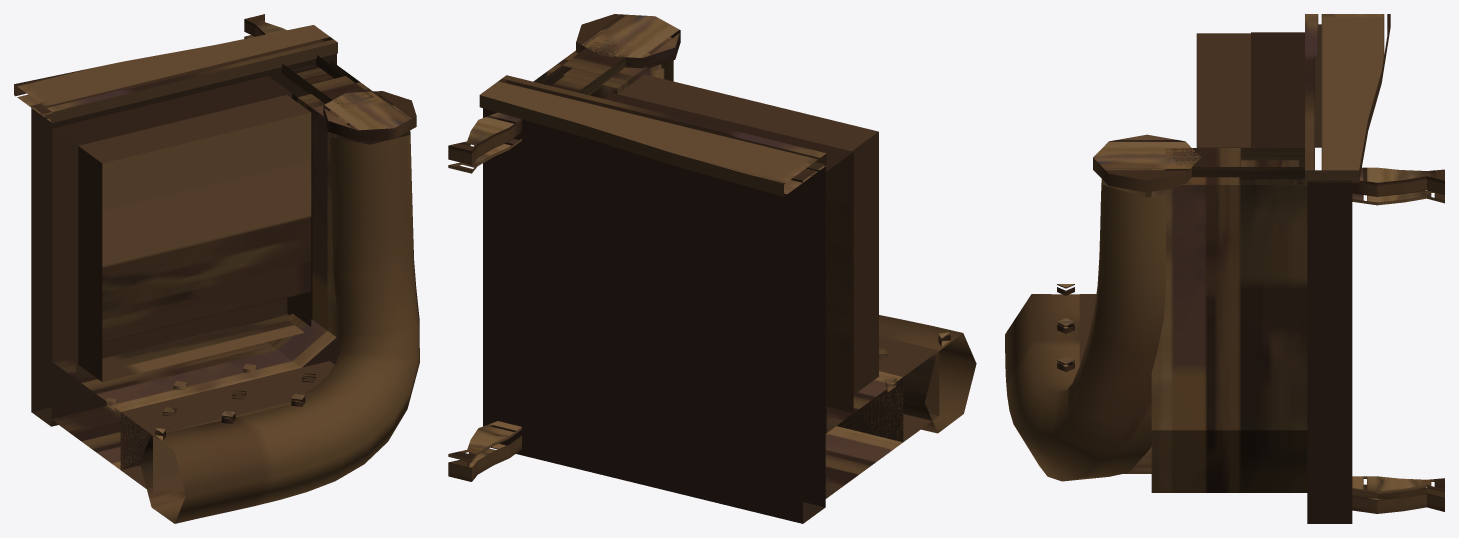
The model's file is section-3.obj.
3 views of the same model, side by side, from view 1: azimuth 30°, elevation 25°; view 2: azimuth 150°, elevation 25°; view 3: azimuth 270°, elevation 25° (orthographic). The views are drawn at different scales.
Size of the model in its own units: 0.83 by 0.8922 by 0.975.
